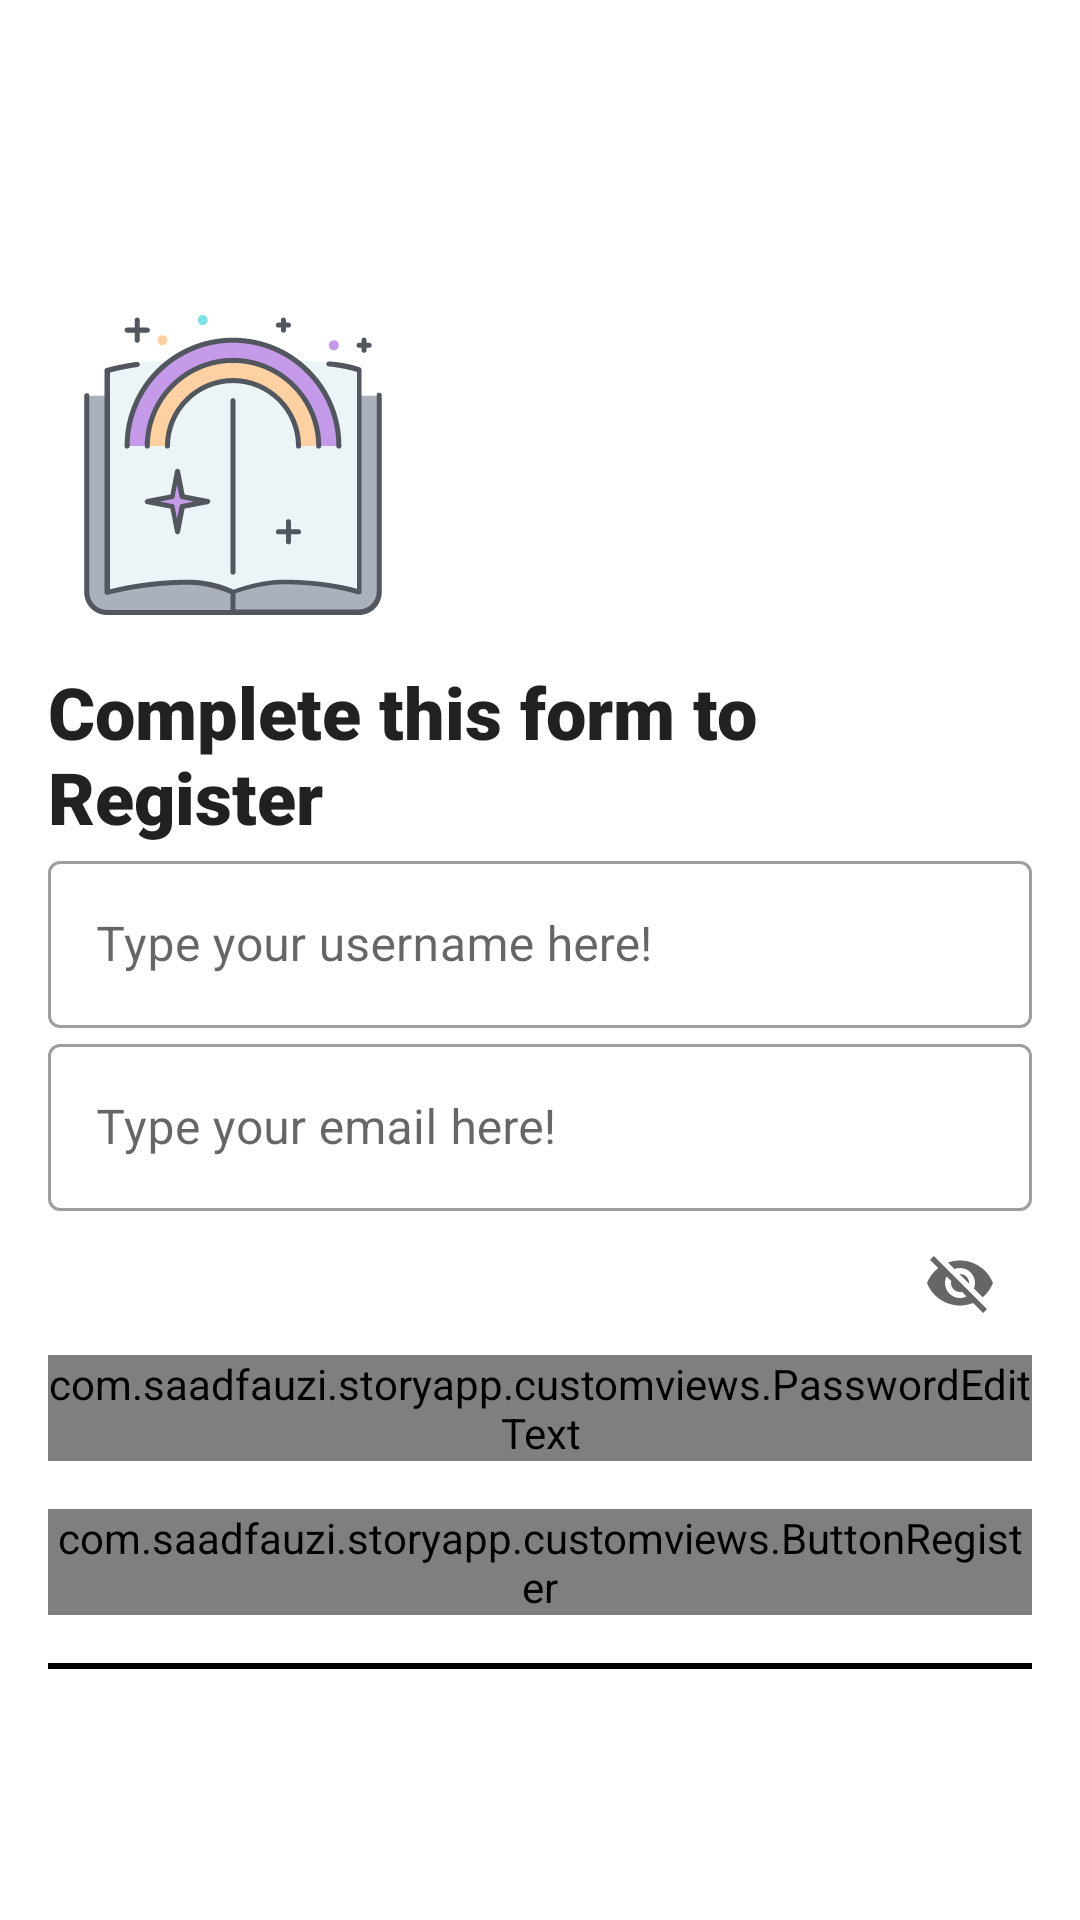

Where icons sit on this 1080x1920 app screen, as box(x1, y1, x2, y2):
story app: box(84, 315, 382, 615)
